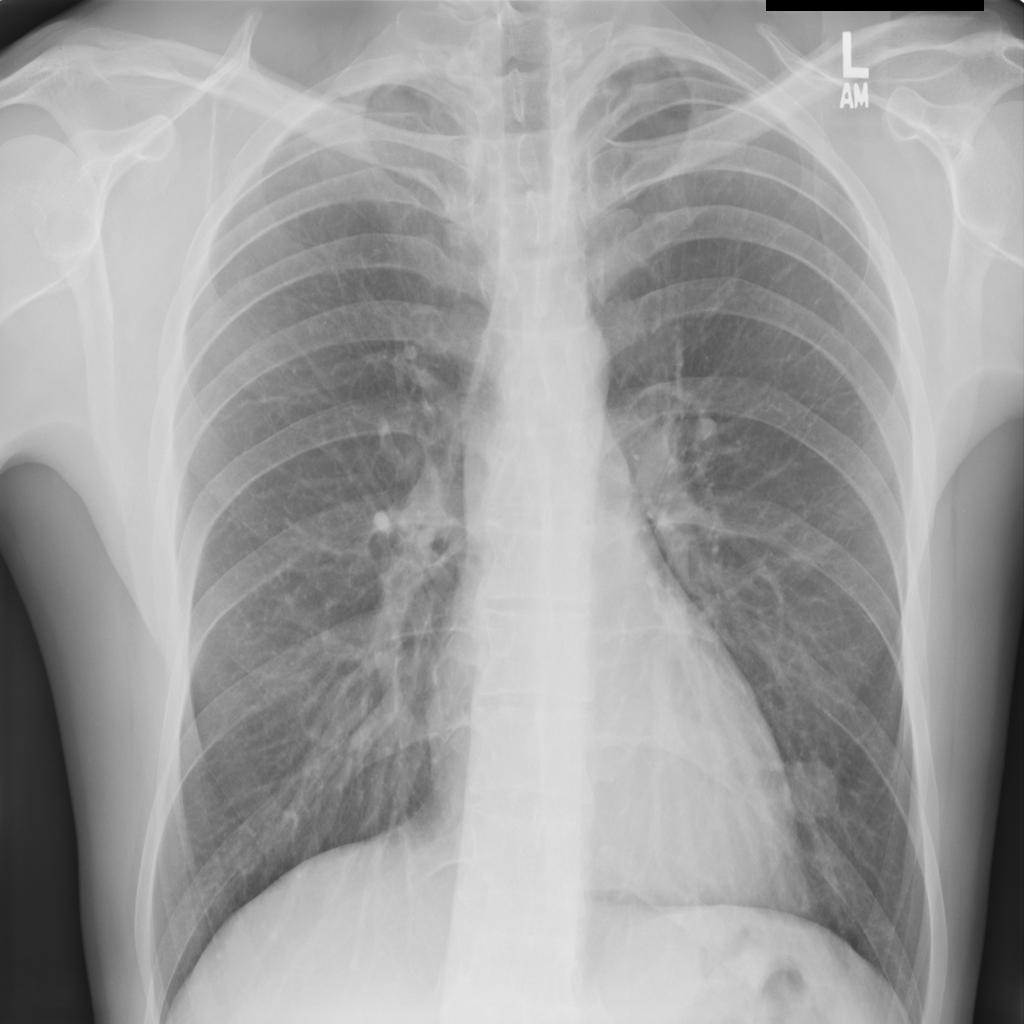nodule: (776, 741, 851, 831)
